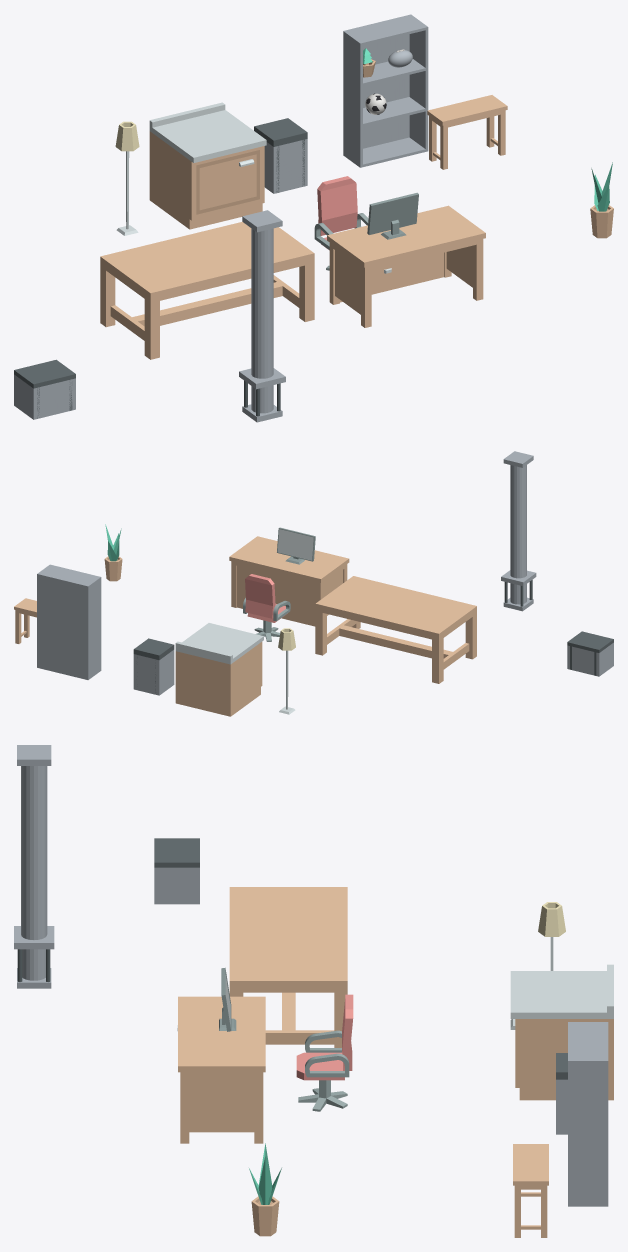
3 views of the same model, one above another, from view 1: azimuth 30°, elevation 25°; view 2: azimuth 150°, elevation 25°; view 3: azimuth 270°, elevation 25° (orthographic). The views are drawn at different scales.
Visible parts, largest first — view 1: table_green__table(Clone), desk_blue__desk(Clone), cabinet_blue__kitchenCabinet(Clone), column_cyan__column_cyan shaft, cabinet_blue__door, sidetable_brown__sideTable(Clone), shelf_orange__shelf_orange back, shelf_orange__shelf_orange side_l, deskchair_black__chair, bin_gray__bin_gray shell, crate_red__crate_red shell, shelf_orange__shelf_orange side_r (+10 smaller); view 2: table_green__table(Clone), cabinet_blue__kitchenCabinet(Clone), desk_blue__desk(Clone), shelf_orange__shelf_orange back, column_cyan__column_cyan shaft, deskchair_black__chair, shelf_orange__shelf_orange side_l, bin_gray__bin_gray shell, monitor_gray__computerScreen(Clone), crate_red__crate_red shell, sidetable_brown__sideTable(Clone), crate_red__crate_red lid (+3 smaller); view 3: table_green__table(Clone), desk_blue__desk(Clone), cabinet_blue__kitchenCabinet(Clone), shelf_orange__shelf_orange side_r, column_cyan__column_cyan shaft, deskchair_black__chair, sidetable_brown__sideTable(Clone), crate_red__crate_red shell, shelf_orange__shelf_orange board3, crate_red__crate_red lid, lamp_white__lampRoundFloor(Clone), plant_pink__pottedPlant(Clone) (+4 smaller).
Part boxes in pixels (<box>): table_green__table(Clone): <box>100,221,314,359</box>; desk_blue__desk(Clone): <box>327,205,485,327</box>; cabinet_blue__kitchenCabinet(Clone): <box>149,102,266,229</box>; column_cyan__column_cyan shaft: <box>251,228,273,413</box>; cabinet_blue__door: <box>196,150,259,214</box>; sidetable_brown__sideTable(Clone): <box>427,95,507,169</box>; shelf_orange__shelf_orange back: <box>346,15,409,148</box>; shelf_orange__shelf_orange side_l: <box>343,30,362,167</box>; deskchair_black__chair: <box>314,176,368,250</box>; bin_gray__bin_gray shell: <box>264,139,307,193</box>; crate_red__crate_red shell: <box>14,374,75,419</box>; shelf_orange__shelf_orange side_r: <box>409,14,428,151</box>; table_green__table(Clone): <box>315,576,476,683</box>; cabinet_blue__kitchenCabinet(Clone): <box>175,623,263,716</box>; desk_blue__desk(Clone): <box>229,536,349,626</box>; shelf_orange__shelf_orange back: <box>39,574,86,679</box>; column_cyan__column_cyan shaft: <box>510,465,526,604</box>; deskchair_black__chair: <box>243,574,290,622</box>; shelf_orange__shelf_orange side_l: <box>86,576,101,679</box>; bin_gray__bin_gray shell: <box>133,650,174,695</box>; monitor_gray__computerScreen(Clone): <box>277,527,315,564</box>; crate_red__crate_red shell: <box>567,642,613,676</box>; sidetable_brown__sideTable(Clone): <box>14,598,36,643</box>; crate_red__crate_red lid: <box>567,631,613,652</box>; table_green__table(Clone): <box>229,887,347,1047</box>; desk_blue__desk(Clone): <box>178,996,265,1143</box>; cabinet_blue__kitchenCabinet(Clone): <box>510,964,613,1100</box>; shelf_orange__shelf_orange side_r: <box>568,1059,608,1206</box>; column_cyan__column_cyan shaft: <box>21,766,47,980</box>; deskchair_black__chair: <box>296,994,353,1080</box>; sidetable_brown__sideTable(Clone): <box>513,1144,548,1237</box>; crate_red__crate_red shell: <box>154,867,199,904</box>; shelf_orange__shelf_orange board3: <box>568,1023,605,1059</box>; crate_red__crate_red lid: <box>154,838,199,867</box>; lamp_white__lampRoundFloor(Clone): <box>538,902,565,970</box>; plant_pink__pottedPlant(Clone): <box>251,1196,279,1236</box>.
Size of the model in its own units: 7.39 by 2.2 by 5.22.
